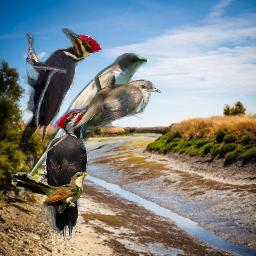Cuckoo: (21, 53, 147, 187), (41, 79, 161, 156), (11, 172, 90, 207)
Woodpecker: (18, 28, 102, 151), (33, 102, 104, 239)
